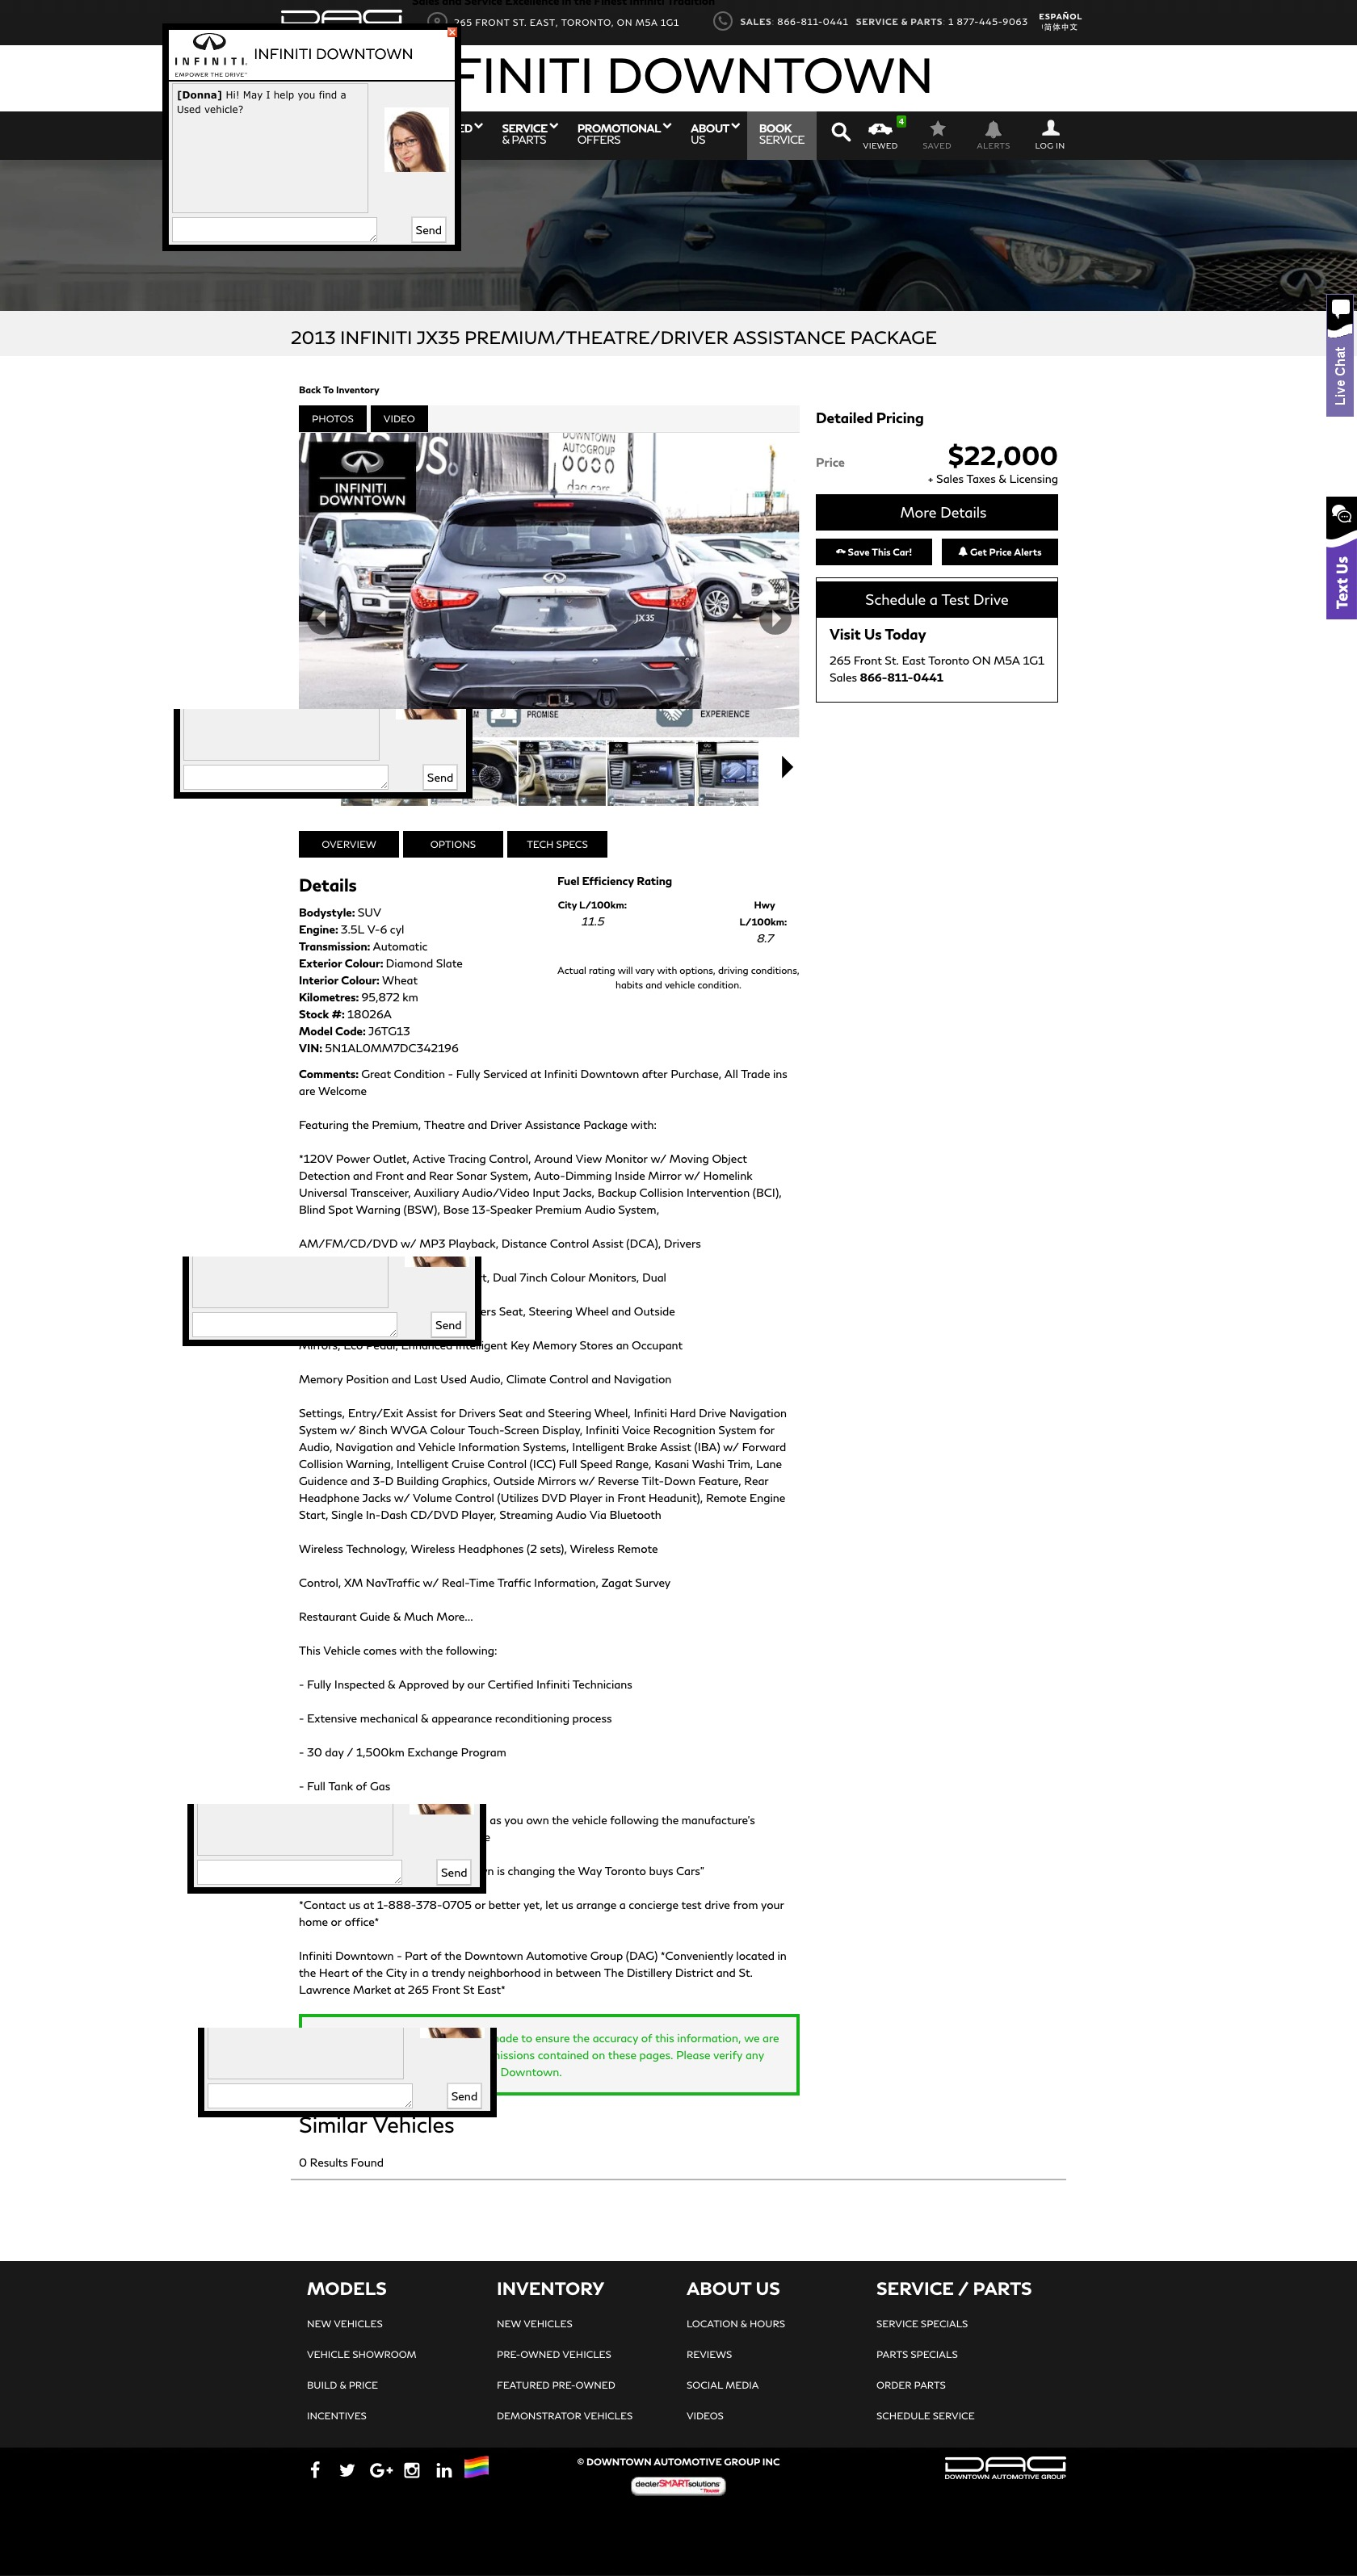car: (781, 756, 794, 779)
